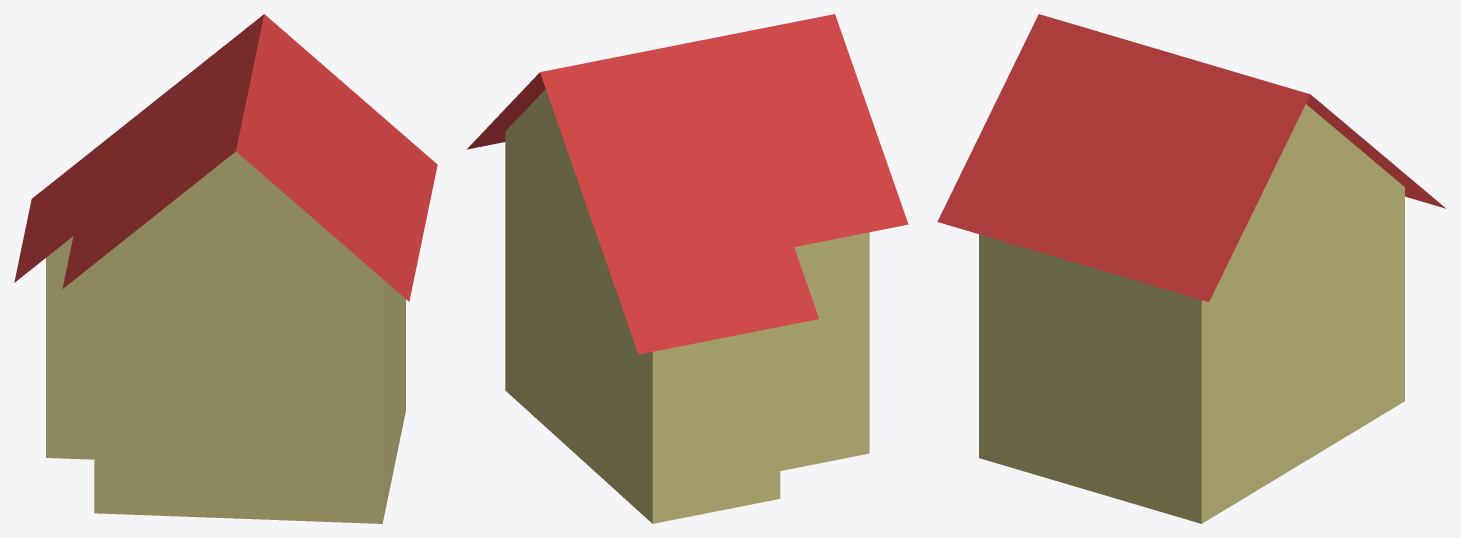
3 renders of one model, left to right at view 1: azimuth 30°, elevation 25°; view 2: azimuth 150°, elevation 25°; view 3: azimuth 270°, elevation 25°, orthographic.
Size of the model in its own units: 16.06 by 17.03 by 14.24.
